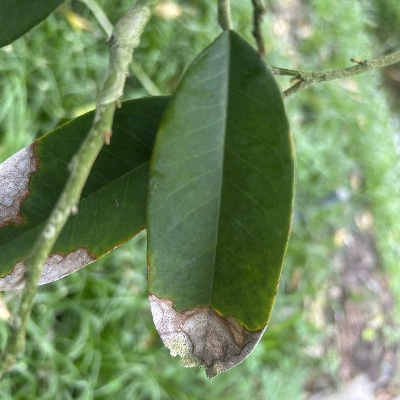Leaf_Colletotrichum: (144, 27, 297, 377)
